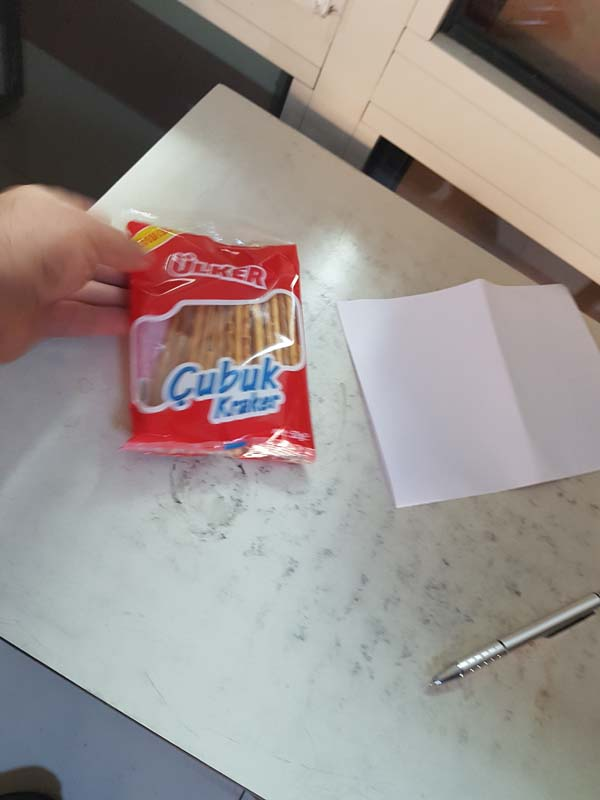eticubuk: (131, 223, 317, 456)
